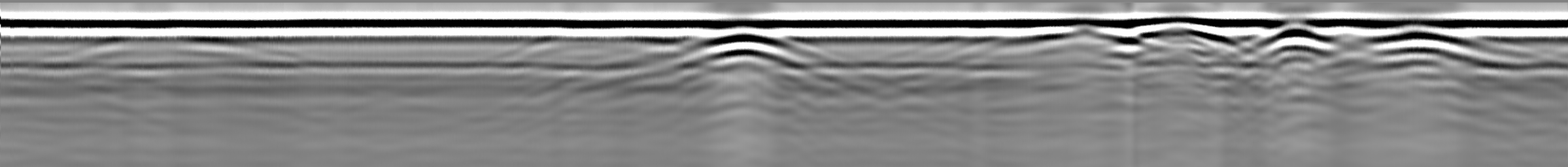pipe: (1370, 16, 1468, 44), (699, 18, 787, 48), (1136, 14, 1222, 38), (1257, 18, 1336, 44)
